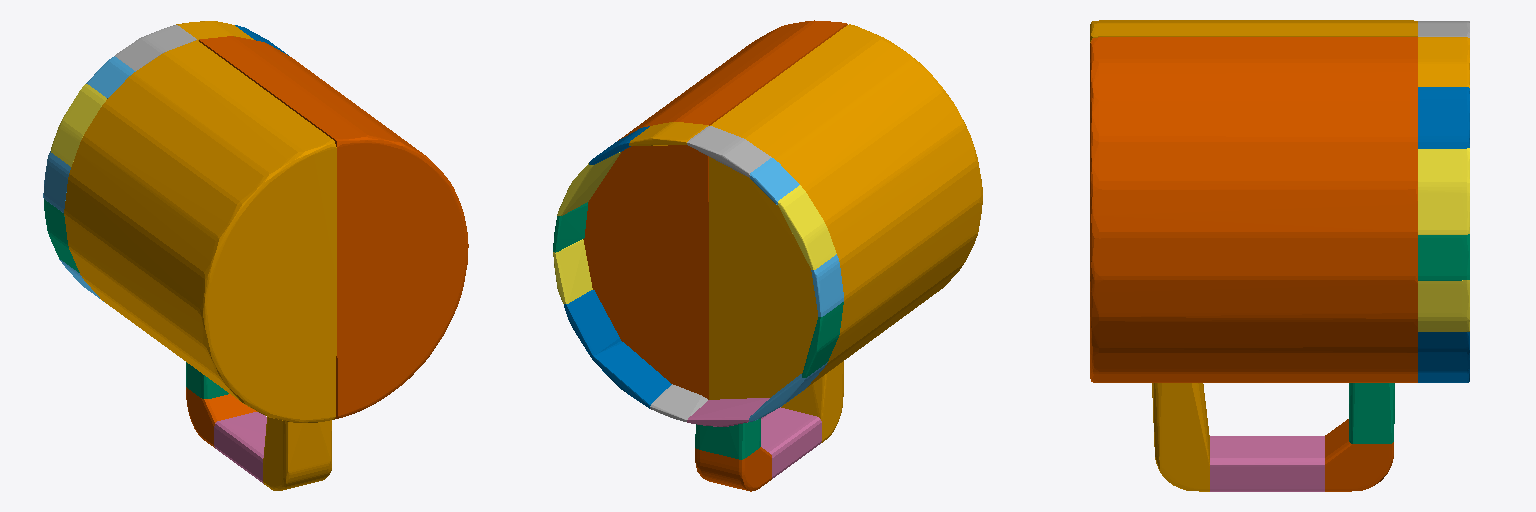
URDF robot description (root):
<robot name="root">
  <link name="link_convex_piece_018.obj">
    <inertial>
      <origin xyz="0 0 0" rpy="0 0 0"/>
    </inertial>
    <visual>
      <origin xyz="0 0 0" rpy="0 0 0"/>
      <geometry>
        <mesh filename="meshes/convex_piece_018.obj" scale="1.0 1.0 1.0"/>
      </geometry>
    </visual>
    <collision>
      <origin xyz="0 0 0" rpy="0 0 0"/>
      <geometry>
        <mesh filename="meshes/convex_piece_018.obj" scale="1.0 1.0 1.0"/>
      </geometry>
    </collision>
  </link>
  <link name="link_convex_piece_012.obj">
    <inertial>
      <origin xyz="0 0 0" rpy="0 0 0"/>
    </inertial>
    <visual>
      <origin xyz="0 0 0" rpy="0 0 0"/>
      <geometry>
        <mesh filename="meshes/convex_piece_012.obj" scale="1.0 1.0 1.0"/>
      </geometry>
    </visual>
    <collision>
      <origin xyz="0 0 0" rpy="0 0 0"/>
      <geometry>
        <mesh filename="meshes/convex_piece_012.obj" scale="1.0 1.0 1.0"/>
      </geometry>
    </collision>
  </link>
  <joint name="link_convex_piece_012.obj_joint" type="fixed">
    <origin xyz="0 0 0" rpy="0 0 0"/>
    <parent link="link_convex_piece_018.obj"/>
    <child link="link_convex_piece_012.obj"/>
  </joint>
  <link name="link_convex_piece_019.obj">
    <inertial>
      <origin xyz="0 0 0" rpy="0 0 0"/>
    </inertial>
    <visual>
      <origin xyz="0 0 0" rpy="0 0 0"/>
      <geometry>
        <mesh filename="meshes/convex_piece_019.obj" scale="1.0 1.0 1.0"/>
      </geometry>
    </visual>
    <collision>
      <origin xyz="0 0 0" rpy="0 0 0"/>
      <geometry>
        <mesh filename="meshes/convex_piece_019.obj" scale="1.0 1.0 1.0"/>
      </geometry>
    </collision>
  </link>
  <joint name="link_convex_piece_019.obj_joint" type="fixed">
    <origin xyz="0 0 0" rpy="0 0 0"/>
    <parent link="link_convex_piece_012.obj"/>
    <child link="link_convex_piece_019.obj"/>
  </joint>
  <link name="link_convex_piece_014.obj">
    <inertial>
      <origin xyz="0 0 0" rpy="0 0 0"/>
    </inertial>
    <visual>
      <origin xyz="0 0 0" rpy="0 0 0"/>
      <geometry>
        <mesh filename="meshes/convex_piece_014.obj" scale="1.0 1.0 1.0"/>
      </geometry>
    </visual>
    <collision>
      <origin xyz="0 0 0" rpy="0 0 0"/>
      <geometry>
        <mesh filename="meshes/convex_piece_014.obj" scale="1.0 1.0 1.0"/>
      </geometry>
    </collision>
  </link>
  <joint name="link_convex_piece_014.obj_joint" type="fixed">
    <origin xyz="0 0 0" rpy="0 0 0"/>
    <parent link="link_convex_piece_019.obj"/>
    <child link="link_convex_piece_014.obj"/>
  </joint>
  <link name="link_convex_piece_020.obj">
    <inertial>
      <origin xyz="0 0 0" rpy="0 0 0"/>
    </inertial>
    <visual>
      <origin xyz="0 0 0" rpy="0 0 0"/>
      <geometry>
        <mesh filename="meshes/convex_piece_020.obj" scale="1.0 1.0 1.0"/>
      </geometry>
    </visual>
    <collision>
      <origin xyz="0 0 0" rpy="0 0 0"/>
      <geometry>
        <mesh filename="meshes/convex_piece_020.obj" scale="1.0 1.0 1.0"/>
      </geometry>
    </collision>
  </link>
  <joint name="link_convex_piece_020.obj_joint" type="fixed">
    <origin xyz="0 0 0" rpy="0 0 0"/>
    <parent link="link_convex_piece_014.obj"/>
    <child link="link_convex_piece_020.obj"/>
  </joint>
  <link name="link_convex_piece_004.obj">
    <inertial>
      <origin xyz="0 0 0" rpy="0 0 0"/>
    </inertial>
    <visual>
      <origin xyz="0 0 0" rpy="0 0 0"/>
      <geometry>
        <mesh filename="meshes/convex_piece_004.obj" scale="1.0 1.0 1.0"/>
      </geometry>
    </visual>
    <collision>
      <origin xyz="0 0 0" rpy="0 0 0"/>
      <geometry>
        <mesh filename="meshes/convex_piece_004.obj" scale="1.0 1.0 1.0"/>
      </geometry>
    </collision>
  </link>
  <joint name="link_convex_piece_004.obj_joint" type="fixed">
    <origin xyz="0 0 0" rpy="0 0 0"/>
    <parent link="link_convex_piece_020.obj"/>
    <child link="link_convex_piece_004.obj"/>
  </joint>
  <link name="link_convex_piece_001.obj">
    <inertial>
      <origin xyz="0 0 0" rpy="0 0 0"/>
    </inertial>
    <visual>
      <origin xyz="0 0 0" rpy="0 0 0"/>
      <geometry>
        <mesh filename="meshes/convex_piece_001.obj" scale="1.0 1.0 1.0"/>
      </geometry>
    </visual>
    <collision>
      <origin xyz="0 0 0" rpy="0 0 0"/>
      <geometry>
        <mesh filename="meshes/convex_piece_001.obj" scale="1.0 1.0 1.0"/>
      </geometry>
    </collision>
  </link>
  <joint name="link_convex_piece_001.obj_joint" type="fixed">
    <origin xyz="0 0 0" rpy="0 0 0"/>
    <parent link="link_convex_piece_004.obj"/>
    <child link="link_convex_piece_001.obj"/>
  </joint>
  <link name="link_convex_piece_015.obj">
    <inertial>
      <origin xyz="0 0 0" rpy="0 0 0"/>
    </inertial>
    <visual>
      <origin xyz="0 0 0" rpy="0 0 0"/>
      <geometry>
        <mesh filename="meshes/convex_piece_015.obj" scale="1.0 1.0 1.0"/>
      </geometry>
    </visual>
    <collision>
      <origin xyz="0 0 0" rpy="0 0 0"/>
      <geometry>
        <mesh filename="meshes/convex_piece_015.obj" scale="1.0 1.0 1.0"/>
      </geometry>
    </collision>
  </link>
  <joint name="link_convex_piece_015.obj_joint" type="fixed">
    <origin xyz="0 0 0" rpy="0 0 0"/>
    <parent link="link_convex_piece_001.obj"/>
    <child link="link_convex_piece_015.obj"/>
  </joint>
  <link name="link_convex_piece_005.obj">
    <inertial>
      <origin xyz="0 0 0" rpy="0 0 0"/>
    </inertial>
    <visual>
      <origin xyz="0 0 0" rpy="0 0 0"/>
      <geometry>
        <mesh filename="meshes/convex_piece_005.obj" scale="1.0 1.0 1.0"/>
      </geometry>
    </visual>
    <collision>
      <origin xyz="0 0 0" rpy="0 0 0"/>
      <geometry>
        <mesh filename="meshes/convex_piece_005.obj" scale="1.0 1.0 1.0"/>
      </geometry>
    </collision>
  </link>
  <joint name="link_convex_piece_005.obj_joint" type="fixed">
    <origin xyz="0 0 0" rpy="0 0 0"/>
    <parent link="link_convex_piece_015.obj"/>
    <child link="link_convex_piece_005.obj"/>
  </joint>
  <link name="link_convex_piece_013.obj">
    <inertial>
      <origin xyz="0 0 0" rpy="0 0 0"/>
    </inertial>
    <visual>
      <origin xyz="0 0 0" rpy="0 0 0"/>
      <geometry>
        <mesh filename="meshes/convex_piece_013.obj" scale="1.0 1.0 1.0"/>
      </geometry>
    </visual>
    <collision>
      <origin xyz="0 0 0" rpy="0 0 0"/>
      <geometry>
        <mesh filename="meshes/convex_piece_013.obj" scale="1.0 1.0 1.0"/>
      </geometry>
    </collision>
  </link>
  <joint name="link_convex_piece_013.obj_joint" type="fixed">
    <origin xyz="0 0 0" rpy="0 0 0"/>
    <parent link="link_convex_piece_005.obj"/>
    <child link="link_convex_piece_013.obj"/>
  </joint>
  <link name="link_convex_piece_002.obj">
    <inertial>
      <origin xyz="0 0 0" rpy="0 0 0"/>
    </inertial>
    <visual>
      <origin xyz="0 0 0" rpy="0 0 0"/>
      <geometry>
        <mesh filename="meshes/convex_piece_002.obj" scale="1.0 1.0 1.0"/>
      </geometry>
    </visual>
    <collision>
      <origin xyz="0 0 0" rpy="0 0 0"/>
      <geometry>
        <mesh filename="meshes/convex_piece_002.obj" scale="1.0 1.0 1.0"/>
      </geometry>
    </collision>
  </link>
  <joint name="link_convex_piece_002.obj_joint" type="fixed">
    <origin xyz="0 0 0" rpy="0 0 0"/>
    <parent link="link_convex_piece_013.obj"/>
    <child link="link_convex_piece_002.obj"/>
  </joint>
  <link name="link_convex_piece_010.obj">
    <inertial>
      <origin xyz="0 0 0" rpy="0 0 0"/>
    </inertial>
    <visual>
      <origin xyz="0 0 0" rpy="0 0 0"/>
      <geometry>
        <mesh filename="meshes/convex_piece_010.obj" scale="1.0 1.0 1.0"/>
      </geometry>
    </visual>
    <collision>
      <origin xyz="0 0 0" rpy="0 0 0"/>
      <geometry>
        <mesh filename="meshes/convex_piece_010.obj" scale="1.0 1.0 1.0"/>
      </geometry>
    </collision>
  </link>
  <joint name="link_convex_piece_010.obj_joint" type="fixed">
    <origin xyz="0 0 0" rpy="0 0 0"/>
    <parent link="link_convex_piece_002.obj"/>
    <child link="link_convex_piece_010.obj"/>
  </joint>
  <link name="link_convex_piece_006.obj">
    <inertial>
      <origin xyz="0 0 0" rpy="0 0 0"/>
    </inertial>
    <visual>
      <origin xyz="0 0 0" rpy="0 0 0"/>
      <geometry>
        <mesh filename="meshes/convex_piece_006.obj" scale="1.0 1.0 1.0"/>
      </geometry>
    </visual>
    <collision>
      <origin xyz="0 0 0" rpy="0 0 0"/>
      <geometry>
        <mesh filename="meshes/convex_piece_006.obj" scale="1.0 1.0 1.0"/>
      </geometry>
    </collision>
  </link>
  <joint name="link_convex_piece_006.obj_joint" type="fixed">
    <origin xyz="0 0 0" rpy="0 0 0"/>
    <parent link="link_convex_piece_010.obj"/>
    <child link="link_convex_piece_006.obj"/>
  </joint>
  <link name="link_convex_piece_003.obj">
    <inertial>
      <origin xyz="0 0 0" rpy="0 0 0"/>
    </inertial>
    <visual>
      <origin xyz="0 0 0" rpy="0 0 0"/>
      <geometry>
        <mesh filename="meshes/convex_piece_003.obj" scale="1.0 1.0 1.0"/>
      </geometry>
    </visual>
    <collision>
      <origin xyz="0 0 0" rpy="0 0 0"/>
      <geometry>
        <mesh filename="meshes/convex_piece_003.obj" scale="1.0 1.0 1.0"/>
      </geometry>
    </collision>
  </link>
  <joint name="link_convex_piece_003.obj_joint" type="fixed">
    <origin xyz="0 0 0" rpy="0 0 0"/>
    <parent link="link_convex_piece_006.obj"/>
    <child link="link_convex_piece_003.obj"/>
  </joint>
  <link name="link_convex_piece_008.obj">
    <inertial>
      <origin xyz="0 0 0" rpy="0 0 0"/>
    </inertial>
    <visual>
      <origin xyz="0 0 0" rpy="0 0 0"/>
      <geometry>
        <mesh filename="meshes/convex_piece_008.obj" scale="1.0 1.0 1.0"/>
      </geometry>
    </visual>
    <collision>
      <origin xyz="0 0 0" rpy="0 0 0"/>
      <geometry>
        <mesh filename="meshes/convex_piece_008.obj" scale="1.0 1.0 1.0"/>
      </geometry>
    </collision>
  </link>
  <joint name="link_convex_piece_008.obj_joint" type="fixed">
    <origin xyz="0 0 0" rpy="0 0 0"/>
    <parent link="link_convex_piece_003.obj"/>
    <child link="link_convex_piece_008.obj"/>
  </joint>
  <link name="link_convex_piece_011.obj">
    <inertial>
      <origin xyz="0 0 0" rpy="0 0 0"/>
    </inertial>
    <visual>
      <origin xyz="0 0 0" rpy="0 0 0"/>
      <geometry>
        <mesh filename="meshes/convex_piece_011.obj" scale="1.0 1.0 1.0"/>
      </geometry>
    </visual>
    <collision>
      <origin xyz="0 0 0" rpy="0 0 0"/>
      <geometry>
        <mesh filename="meshes/convex_piece_011.obj" scale="1.0 1.0 1.0"/>
      </geometry>
    </collision>
  </link>
  <joint name="link_convex_piece_011.obj_joint" type="fixed">
    <origin xyz="0 0 0" rpy="0 0 0"/>
    <parent link="link_convex_piece_008.obj"/>
    <child link="link_convex_piece_011.obj"/>
  </joint>
  <link name="link_convex_piece_000.obj">
    <inertial>
      <origin xyz="0 0 0" rpy="0 0 0"/>
    </inertial>
    <visual>
      <origin xyz="0 0 0" rpy="0 0 0"/>
      <geometry>
        <mesh filename="meshes/convex_piece_000.obj" scale="1.0 1.0 1.0"/>
      </geometry>
    </visual>
    <collision>
      <origin xyz="0 0 0" rpy="0 0 0"/>
      <geometry>
        <mesh filename="meshes/convex_piece_000.obj" scale="1.0 1.0 1.0"/>
      </geometry>
    </collision>
  </link>
  <joint name="link_convex_piece_000.obj_joint" type="fixed">
    <origin xyz="0 0 0" rpy="0 0 0"/>
    <parent link="link_convex_piece_011.obj"/>
    <child link="link_convex_piece_000.obj"/>
  </joint>
  <link name="link_convex_piece_016.obj">
    <inertial>
      <origin xyz="0 0 0" rpy="0 0 0"/>
    </inertial>
    <visual>
      <origin xyz="0 0 0" rpy="0 0 0"/>
      <geometry>
        <mesh filename="meshes/convex_piece_016.obj" scale="1.0 1.0 1.0"/>
      </geometry>
    </visual>
    <collision>
      <origin xyz="0 0 0" rpy="0 0 0"/>
      <geometry>
        <mesh filename="meshes/convex_piece_016.obj" scale="1.0 1.0 1.0"/>
      </geometry>
    </collision>
  </link>
  <joint name="link_convex_piece_016.obj_joint" type="fixed">
    <origin xyz="0 0 0" rpy="0 0 0"/>
    <parent link="link_convex_piece_000.obj"/>
    <child link="link_convex_piece_016.obj"/>
  </joint>
  <link name="link_convex_piece_009.obj">
    <inertial>
      <origin xyz="0 0 0" rpy="0 0 0"/>
    </inertial>
    <visual>
      <origin xyz="0 0 0" rpy="0 0 0"/>
      <geometry>
        <mesh filename="meshes/convex_piece_009.obj" scale="1.0 1.0 1.0"/>
      </geometry>
    </visual>
    <collision>
      <origin xyz="0 0 0" rpy="0 0 0"/>
      <geometry>
        <mesh filename="meshes/convex_piece_009.obj" scale="1.0 1.0 1.0"/>
      </geometry>
    </collision>
  </link>
  <joint name="link_convex_piece_009.obj_joint" type="fixed">
    <origin xyz="0 0 0" rpy="0 0 0"/>
    <parent link="link_convex_piece_016.obj"/>
    <child link="link_convex_piece_009.obj"/>
  </joint>
  <link name="link_convex_piece_007.obj">
    <inertial>
      <origin xyz="0 0 0" rpy="0 0 0"/>
    </inertial>
    <visual>
      <origin xyz="0 0 0" rpy="0 0 0"/>
      <geometry>
        <mesh filename="meshes/convex_piece_007.obj" scale="1.0 1.0 1.0"/>
      </geometry>
    </visual>
    <collision>
      <origin xyz="0 0 0" rpy="0 0 0"/>
      <geometry>
        <mesh filename="meshes/convex_piece_007.obj" scale="1.0 1.0 1.0"/>
      </geometry>
    </collision>
  </link>
  <joint name="link_convex_piece_007.obj_joint" type="fixed">
    <origin xyz="0 0 0" rpy="0 0 0"/>
    <parent link="link_convex_piece_009.obj"/>
    <child link="link_convex_piece_007.obj"/>
  </joint>
  <link name="link_convex_piece_017.obj">
    <inertial>
      <origin xyz="0 0 0" rpy="0 0 0"/>
    </inertial>
    <visual>
      <origin xyz="0 0 0" rpy="0 0 0"/>
      <geometry>
        <mesh filename="meshes/convex_piece_017.obj" scale="1.0 1.0 1.0"/>
      </geometry>
    </visual>
    <collision>
      <origin xyz="0 0 0" rpy="0 0 0"/>
      <geometry>
        <mesh filename="meshes/convex_piece_017.obj" scale="1.0 1.0 1.0"/>
      </geometry>
    </collision>
  </link>
  <joint name="link_convex_piece_017.obj_joint" type="fixed">
    <origin xyz="0 0 0" rpy="0 0 0"/>
    <parent link="link_convex_piece_007.obj"/>
    <child link="link_convex_piece_017.obj"/>
  </joint>
</robot>

--- What the picture shows (computed from the rendered views, not written in the file) ---
The picture shows the robot from 3 angles, left to right: view 1: azimuth 30°, elevation 25°; view 2: azimuth 150°, elevation 25°; view 3: azimuth 270°, elevation 25°; orthographic projection.
Model root with 21 links and 20 joints (20 fixed), rooted at link_convex_piece_018.obj, posed all joints at 0.
Visible links, largest first — view 1: link_convex_piece_005.obj, link_convex_piece_004.obj, link_convex_piece_000.obj, link_convex_piece_001.obj, link_convex_piece_007.obj, link_convex_piece_003.obj, link_convex_piece_015.obj, link_convex_piece_013.obj, link_convex_piece_016.obj, link_convex_piece_019.obj, link_convex_piece_018.obj, link_convex_piece_002.obj; view 2: link_convex_piece_005.obj, link_convex_piece_004.obj, link_convex_piece_001.obj, link_convex_piece_006.obj, link_convex_piece_007.obj, link_convex_piece_003.obj, link_convex_piece_000.obj, link_convex_piece_015.obj, link_convex_piece_017.obj, link_convex_piece_002.obj, link_convex_piece_014.obj, link_convex_piece_008.obj (+8 smaller); view 3: link_convex_piece_004.obj, link_convex_piece_001.obj, link_convex_piece_005.obj, link_convex_piece_000.obj, link_convex_piece_010.obj, link_convex_piece_003.obj, link_convex_piece_020.obj, link_convex_piece_002.obj, link_convex_piece_014.obj, link_convex_piece_018.obj, link_convex_piece_009.obj, link_convex_piece_017.obj (+2 smaller).
Link boxes in pixels (<box>): link_convex_piece_005.obj: <box>64,40,336,422</box>; link_convex_piece_004.obj: <box>199,36,468,418</box>; link_convex_piece_000.obj: <box>263,417,331,490</box>; link_convex_piece_001.obj: <box>214,412,266,483</box>; link_convex_piece_007.obj: <box>51,84,106,166</box>; link_convex_piece_003.obj: <box>186,387,256,447</box>; link_convex_piece_015.obj: <box>115,25,196,70</box>; link_convex_piece_013.obj: <box>43,151,70,212</box>; link_convex_piece_016.obj: <box>86,56,135,98</box>; link_convex_piece_019.obj: <box>44,199,79,272</box>; link_convex_piece_018.obj: <box>176,21,253,40</box>; link_convex_piece_002.obj: <box>186,362,228,398</box>; link_convex_piece_005.obj: <box>709,24,982,399</box>; link_convex_piece_004.obj: <box>583,20,847,399</box>; link_convex_piece_001.obj: <box>761,407,821,478</box>; link_convex_piece_006.obj: <box>590,341,671,408</box>; link_convex_piece_007.obj: <box>778,185,836,269</box>; link_convex_piece_003.obj: <box>695,447,771,491</box>; link_convex_piece_000.obj: <box>781,361,843,442</box>; link_convex_piece_015.obj: <box>687,126,771,177</box>; link_convex_piece_017.obj: <box>564,290,620,355</box>; link_convex_piece_002.obj: <box>695,418,760,459</box>; link_convex_piece_014.obj: <box>553,239,592,303</box>; link_convex_piece_008.obj: <box>687,398,769,426</box>; link_convex_piece_004.obj: <box>1090,37,1417,382</box>; link_convex_piece_001.obj: <box>1210,436,1324,491</box>; link_convex_piece_005.obj: <box>1090,20,1417,42</box>; link_convex_piece_000.obj: <box>1152,383,1209,491</box>; link_convex_piece_010.obj: <box>1418,148,1469,234</box>; link_convex_piece_003.obj: <box>1325,419,1393,491</box>; link_convex_piece_020.obj: <box>1418,87,1469,148</box>; link_convex_piece_002.obj: <box>1349,383,1394,443</box>; link_convex_piece_014.obj: <box>1418,280,1469,331</box>; link_convex_piece_018.obj: <box>1418,37,1469,87</box>; link_convex_piece_009.obj: <box>1418,234,1469,280</box>; link_convex_piece_017.obj: <box>1418,332,1469,369</box>.
Size in the robot's own frame: 1.02 by 1.07 by 1.38 metres.
21 mesh visuals loaded from 21 distinct referenced files (21 OBJ).
